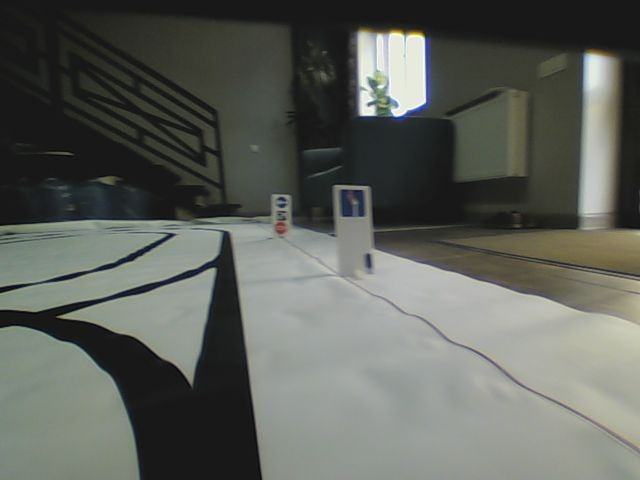priority_movement: (337, 185, 366, 219)
